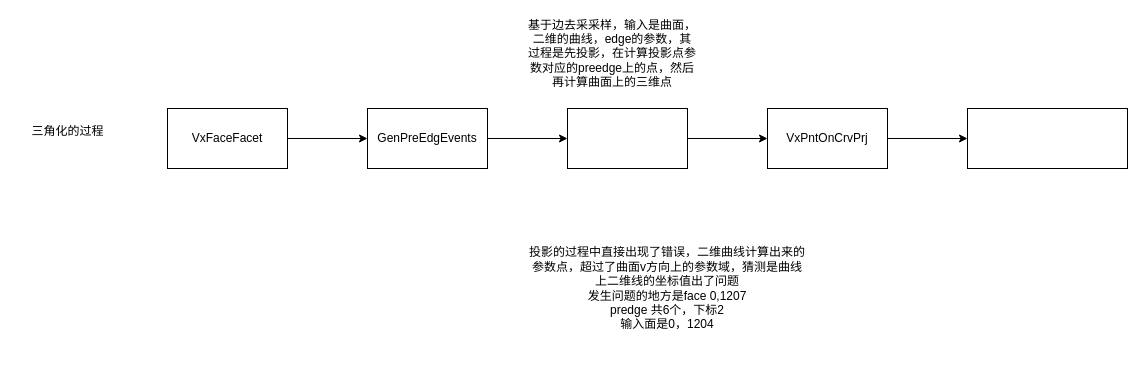
Some shapes in this 1145 by 365 pixel diagram are drawn without their labels. The centre of each missing label's shape, as x and y in pixels:
"SamplePntAtEdgePnt" goes at (x=627, y=138).
"VxCrvOnSrfEvalGeom" goes at (x=1047, y=138).
